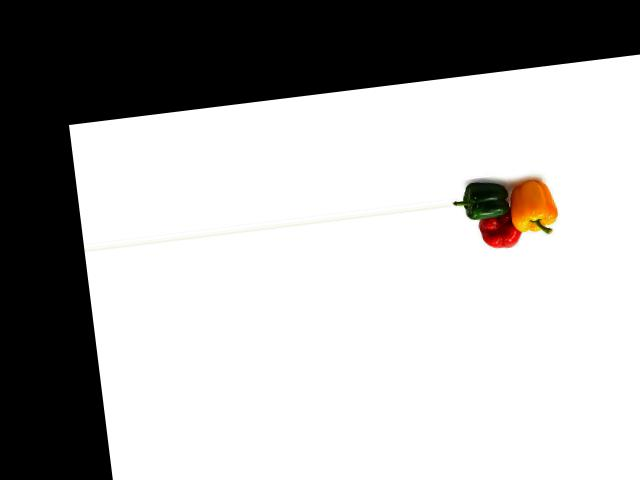bell_pepper: (455, 177, 521, 227)
